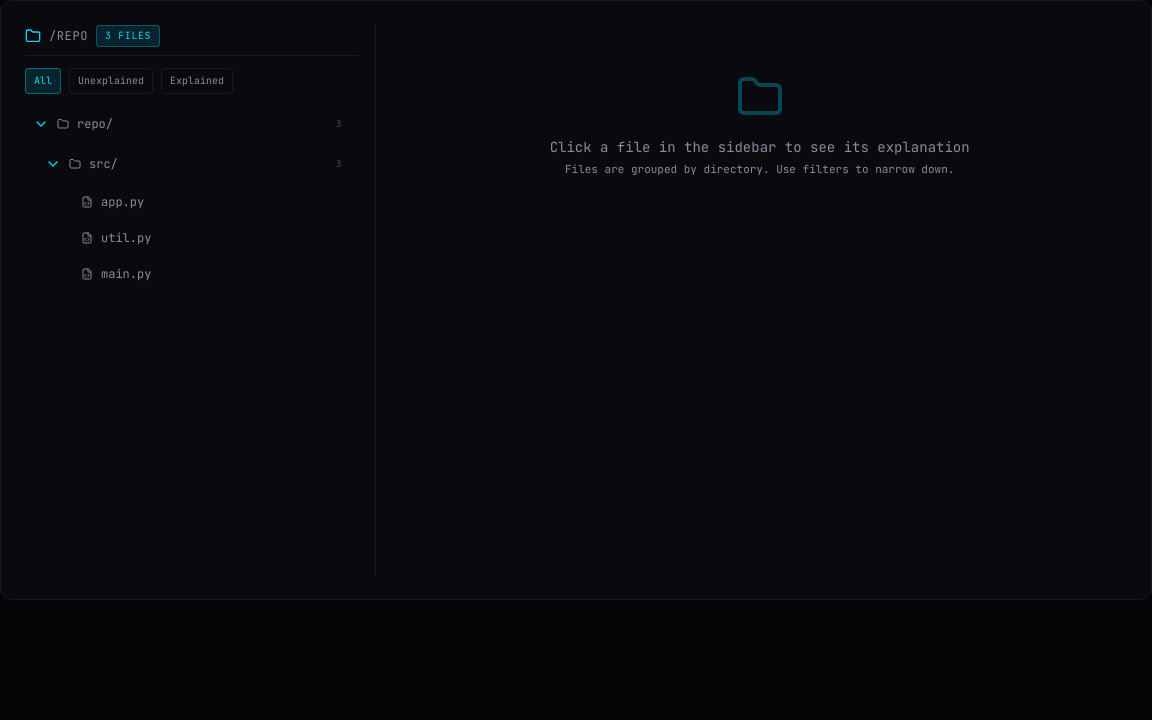
it: FileGraphTab connected files (PRD-G02) › shows the connected-files graph when a file is selected
Expected: the text "/repo" is shown, 49,28 -> 88,44
Click the button "app.py" at (123, 202), box 25,186 -> 355,218
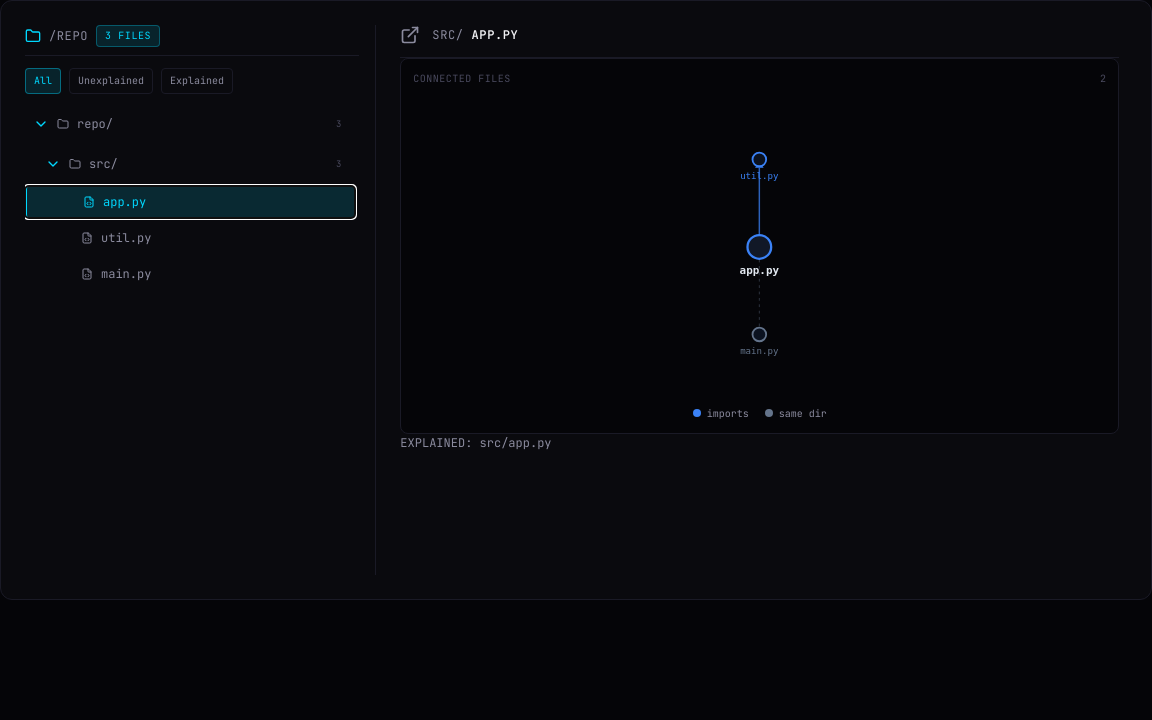
Expected: the field labelled "connection src/util.py" is shown, 740,171 -> 779,181
Expected: the picture with test id "connections-graph" is shown, 413,92 -> 1106,402
